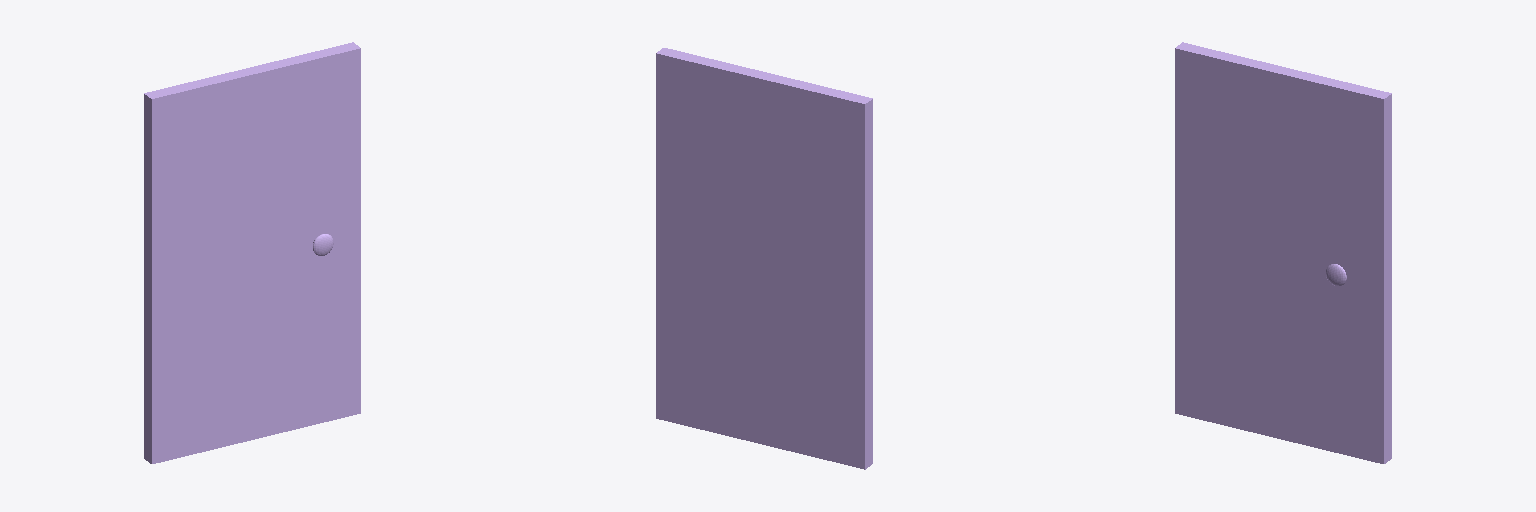
3 renders of one model, left to right at view 1: azimuth 30°, elevation 25°; view 2: azimuth 150°, elevation 25°; view 3: azimuth 330°, elevation 25°, orthographic.
Visible parts, largest first — view 1: pSphere2; view 2: pSphere2; view 3: pSphere2.
Part boxes in pixels (x1,y1,x2,y2): pSphere2: (144,42,360,463); pSphere2: (656,48,872,469); pSphere2: (1175,42,1391,463).
Bounding box in the file's own units: 3 × 5 × 0.3724.
1 materials, 1 textured.